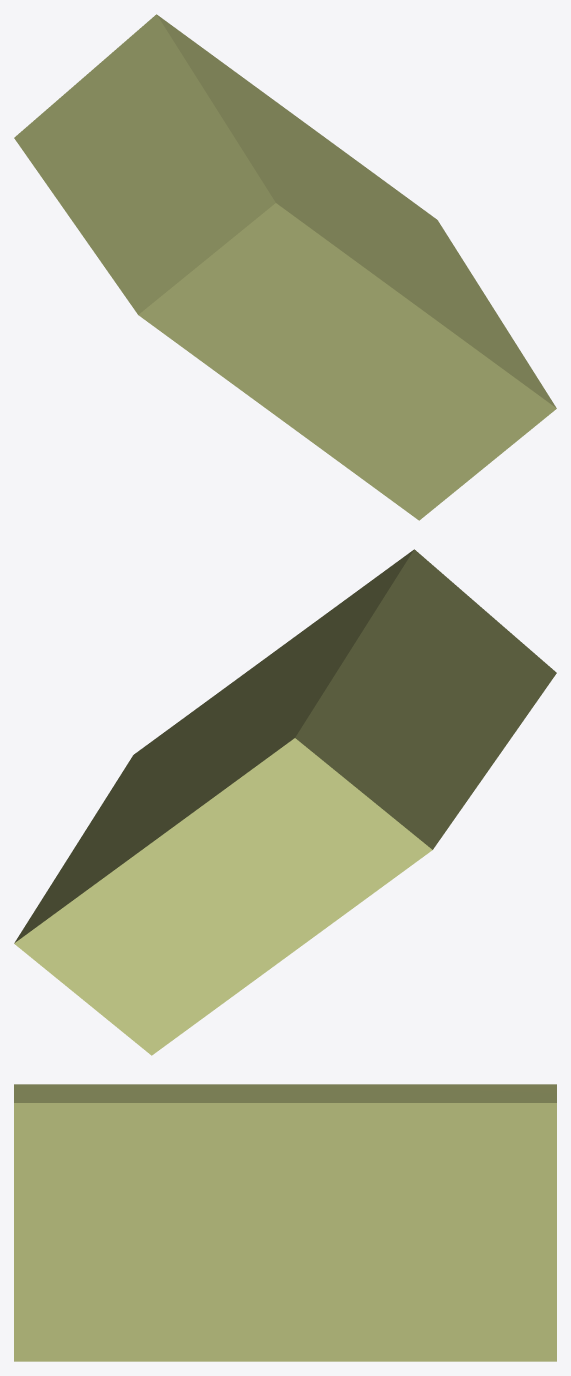
3 views of the same model, one above another, from view 1: azimuth 30°, elevation 25°; view 2: azimuth 150°, elevation 25°; view 3: azimuth 270°, elevation 25° (orthographic). The views are drawn at different scales.
Visible parts, largest first — view 1: 0_1_1_3_2_2_3_3_1_0_1_2; view 2: 0_1_1_3_2_2_3_3_1_0_1_2; view 3: 0_1_1_3_2_2_3_3_1_0_1_2.
Part boxes in pixels (box(x1,y1,x2,y2)): 0_1_1_3_2_2_3_3_1_0_1_2: box(14, 14, 556, 520); 0_1_1_3_2_2_3_3_1_0_1_2: box(14, 549, 556, 1055); 0_1_1_3_2_2_3_3_1_0_1_2: box(14, 1084, 556, 1361).
Size of the model in its own units: 4.84 by 5.24 by 9.
